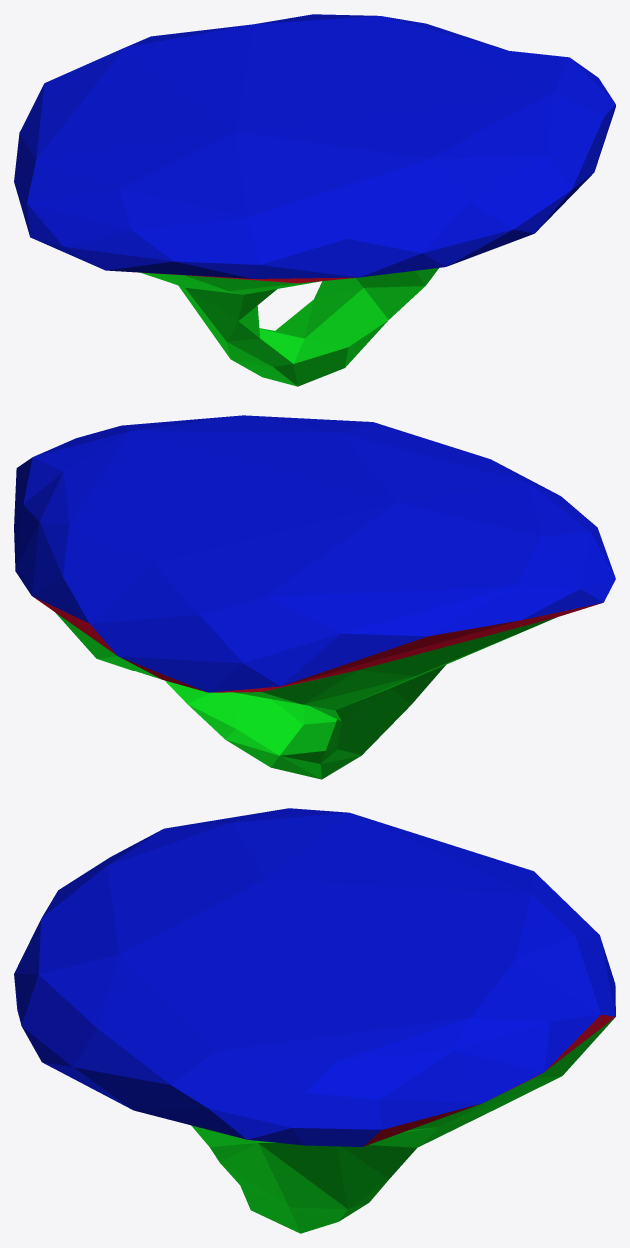
File: Rock_Island_2_Collider.fbx
3 renders of one model, top to bottom at view 1: azimuth 30°, elevation 25°; view 2: azimuth 150°, elevation 25°; view 3: azimuth 270°, elevation 25°, orthographic. The views are drawn at different scales.
Visible parts, largest first — view 1: Rock_Island_2_Collider; view 2: Rock_Island_2_Collider; view 3: Rock_Island_2_Collider.
Boxes of the visible parts, left/top/right/bottom form: Rock_Island_2_Collider: left=14, top=14, right=615, bottom=386; Rock_Island_2_Collider: left=14, top=415, right=615, bottom=779; Rock_Island_2_Collider: left=14, top=808, right=615, bottom=1233.
Size of the model in its own units: 7010 by 3221 by 5784.
